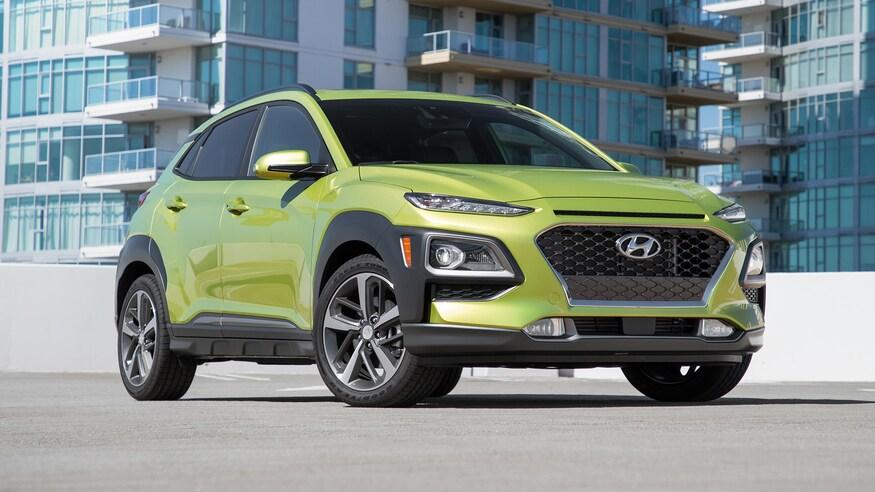car: (104, 78, 791, 432)
